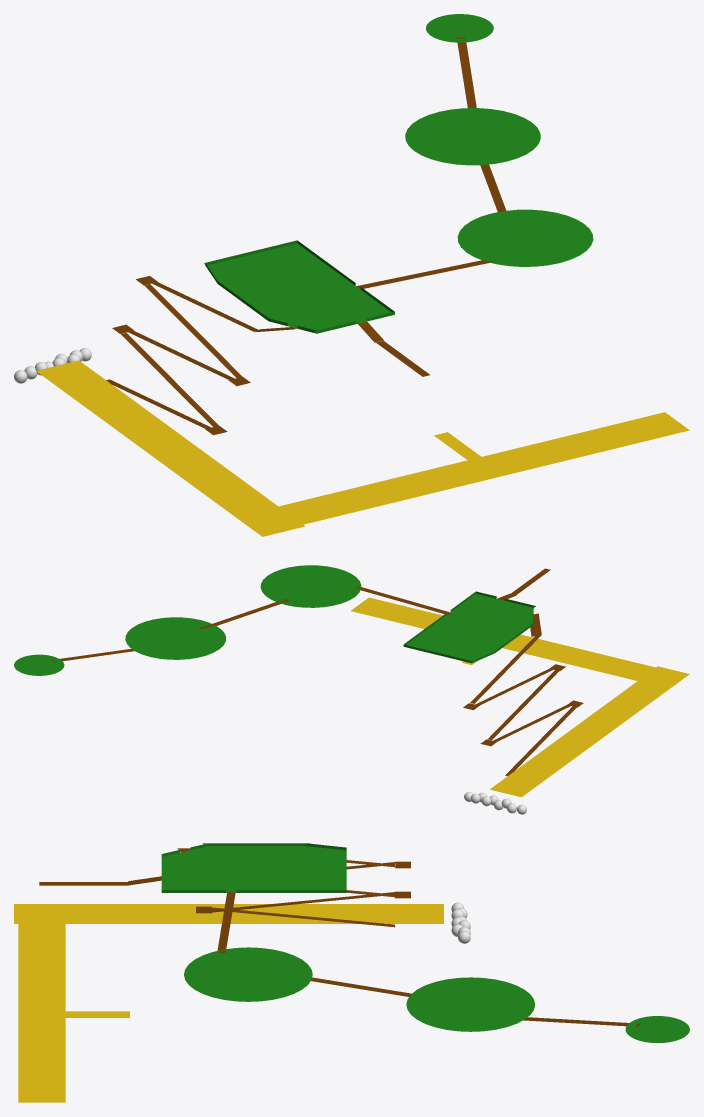
Rendered from playable_VIScol.glb.
3 renders of one model, top to bottom at view 1: azimuth 30°, elevation 25°; view 2: azimuth 150°, elevation 25°; view 3: azimuth 270°, elevation 25°, orthographic. The views are drawn at different scales.
Visible parts, largest first — view 1: CollisionPlanes-col; view 2: CollisionPlanes-col; view 3: CollisionPlanes-col.
Boxes of the visible parts, x1,y1,x2,y2 form: CollisionPlanes-col: [14, 14, 689, 536]; CollisionPlanes-col: [14, 565, 689, 814]; CollisionPlanes-col: [14, 843, 689, 1102].
Bounding box in the file's own units: 197 × 47.11 × 210.
